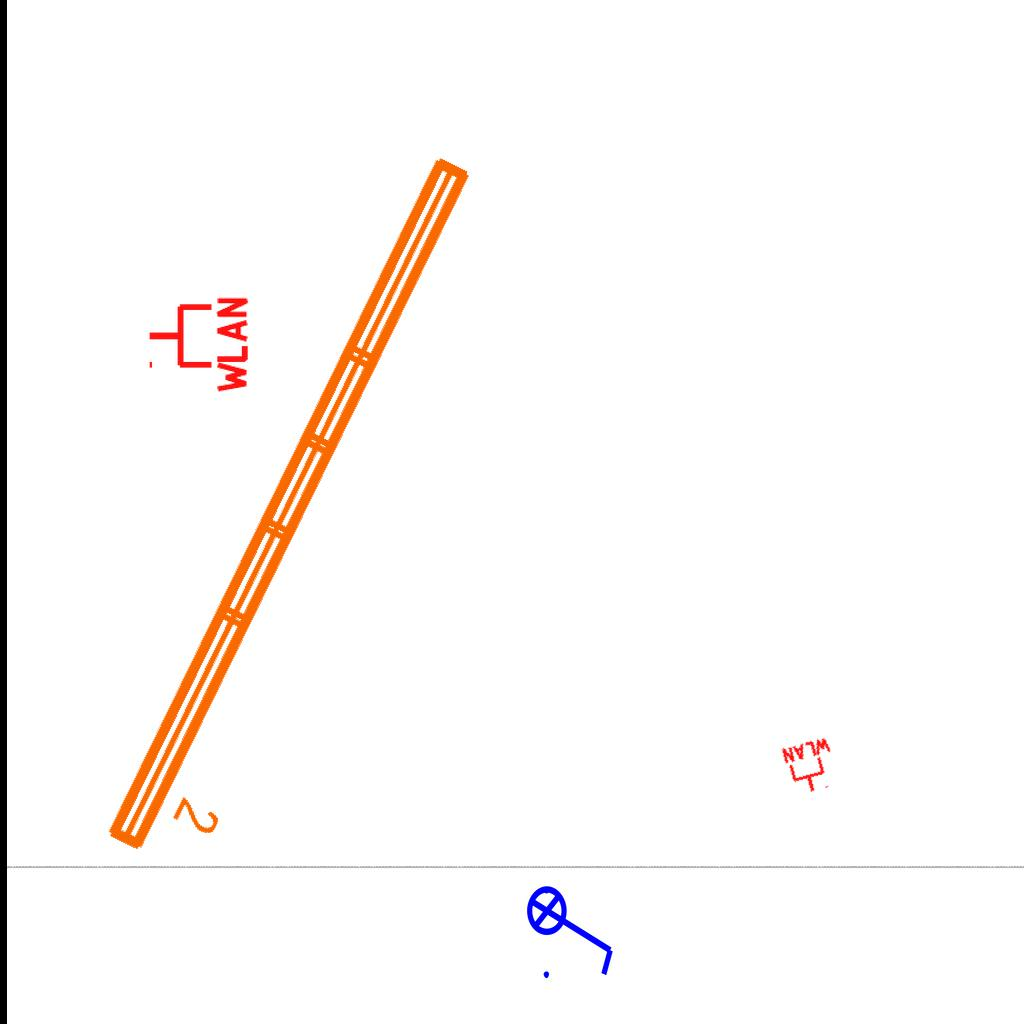Ambulanz_Pendelleuchte_LED: (92, 141, 532, 887)
Ausschalter_beleuchtet: (525, 872, 621, 984)
WLAN: (145, 293, 250, 397), (779, 735, 843, 799)
